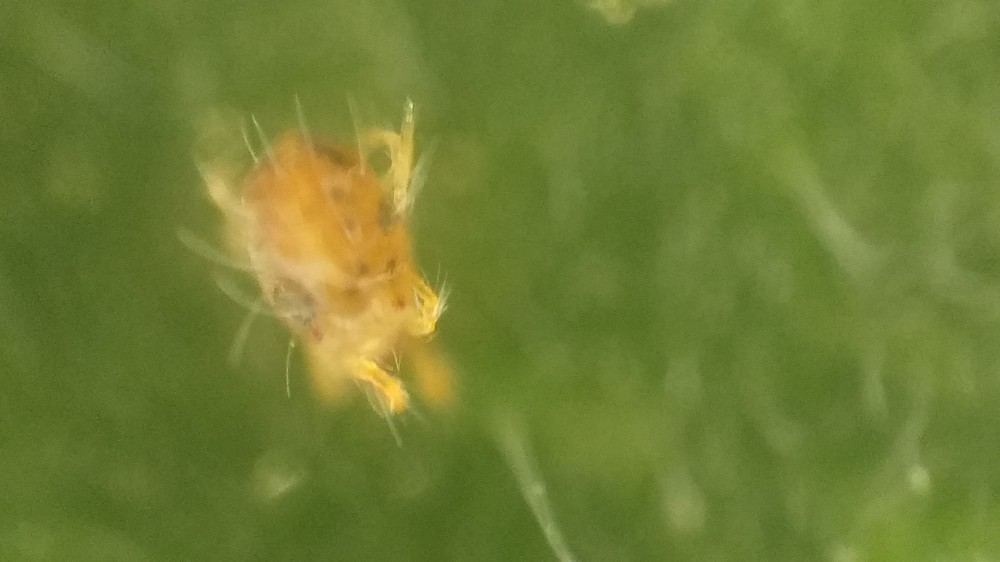Aracnido Rojo: (172, 94, 494, 437)
